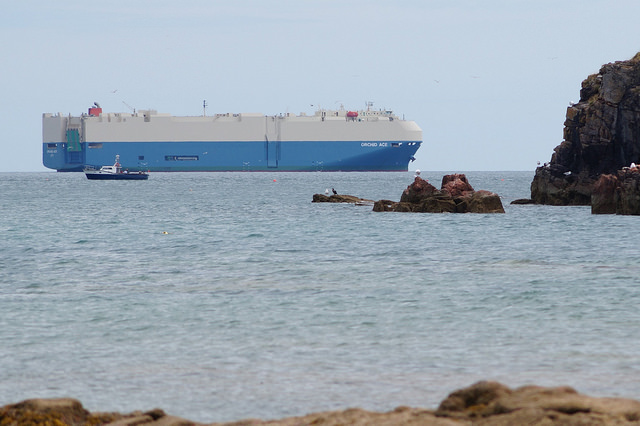PCC: (37, 98, 424, 170)
boat: (85, 154, 156, 184)
